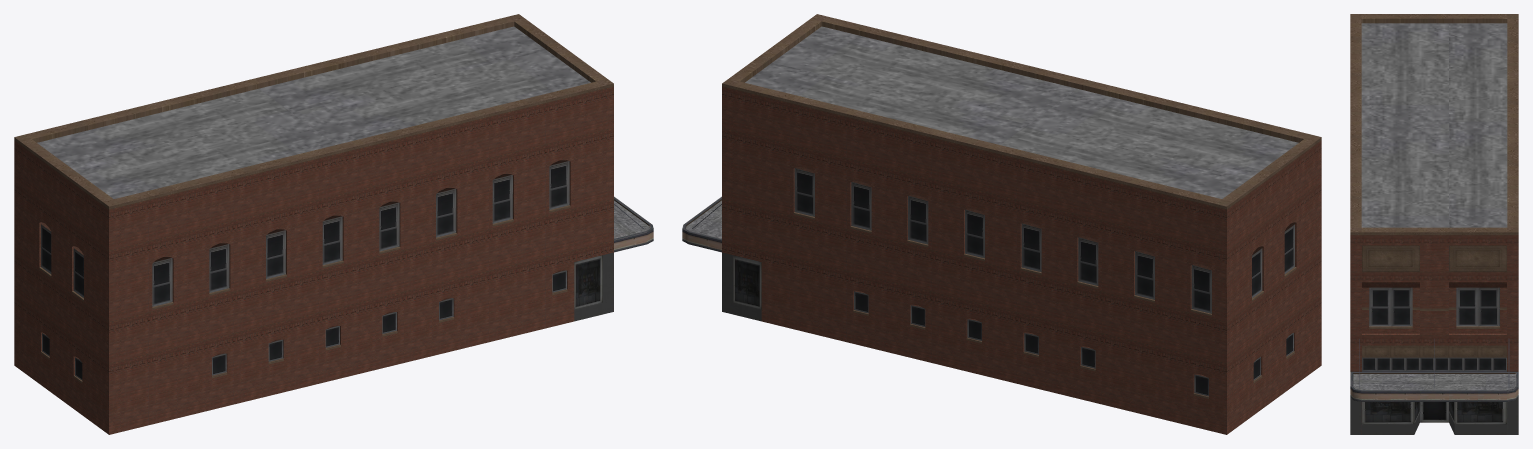
File: correio.glb
The picture shows the model from 3 angles, left to right: view 1: azimuth 30°, elevation 25°; view 2: azimuth 150°, elevation 25°; view 3: azimuth 270°, elevation 25°; orthographic projection. The views are drawn at different scales.
Parts seen in each view (by area): view 1: Object_4; view 2: Object_4; view 3: Object_4.
Part boxes in pixels (<box>): Object_4: <box>14,14,653,434</box>; Object_4: <box>682,14,1321,434</box>; Object_4: <box>1350,14,1518,434</box>.
Bounding box in the file's own units: 24.23 × 9.61 × 7.24.
Materials: 1 (1 with a texture image).
